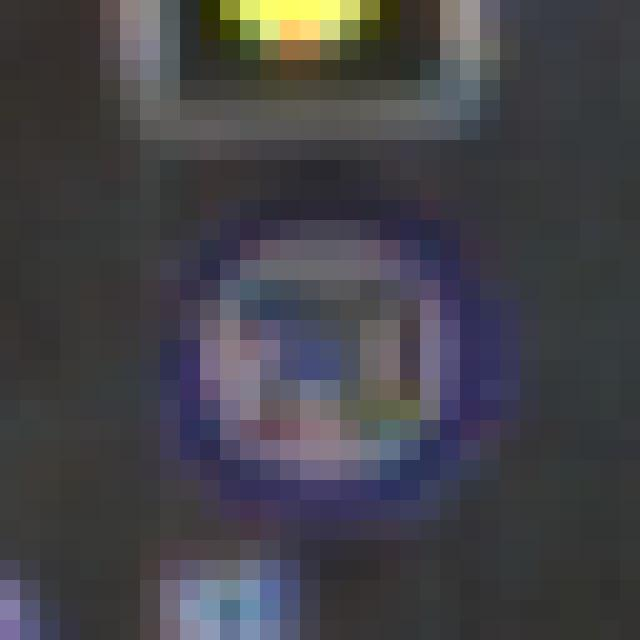SPEED LIMIT 70: (185, 195, 494, 531)
